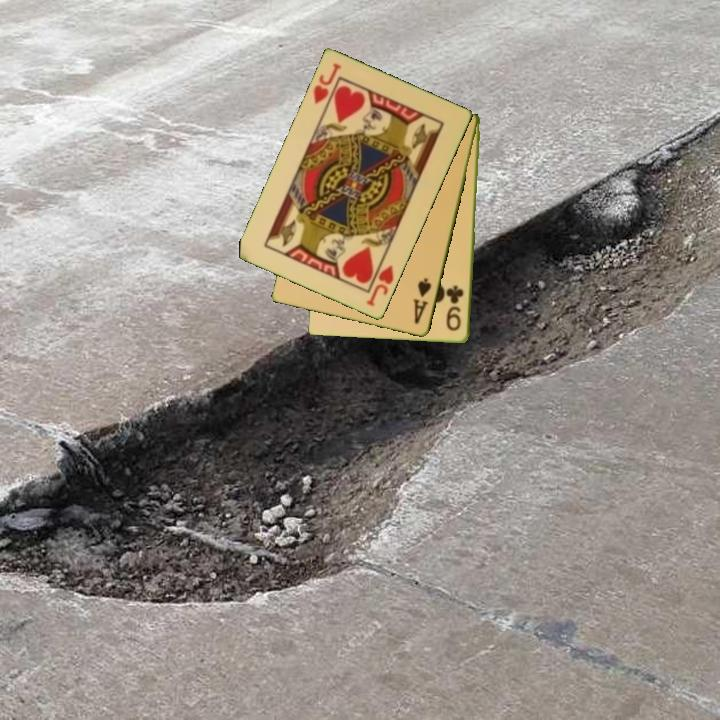9c: (444, 282, 467, 334)
As: (410, 275, 435, 328)
Jh: (363, 262, 397, 310), (310, 60, 344, 108)
